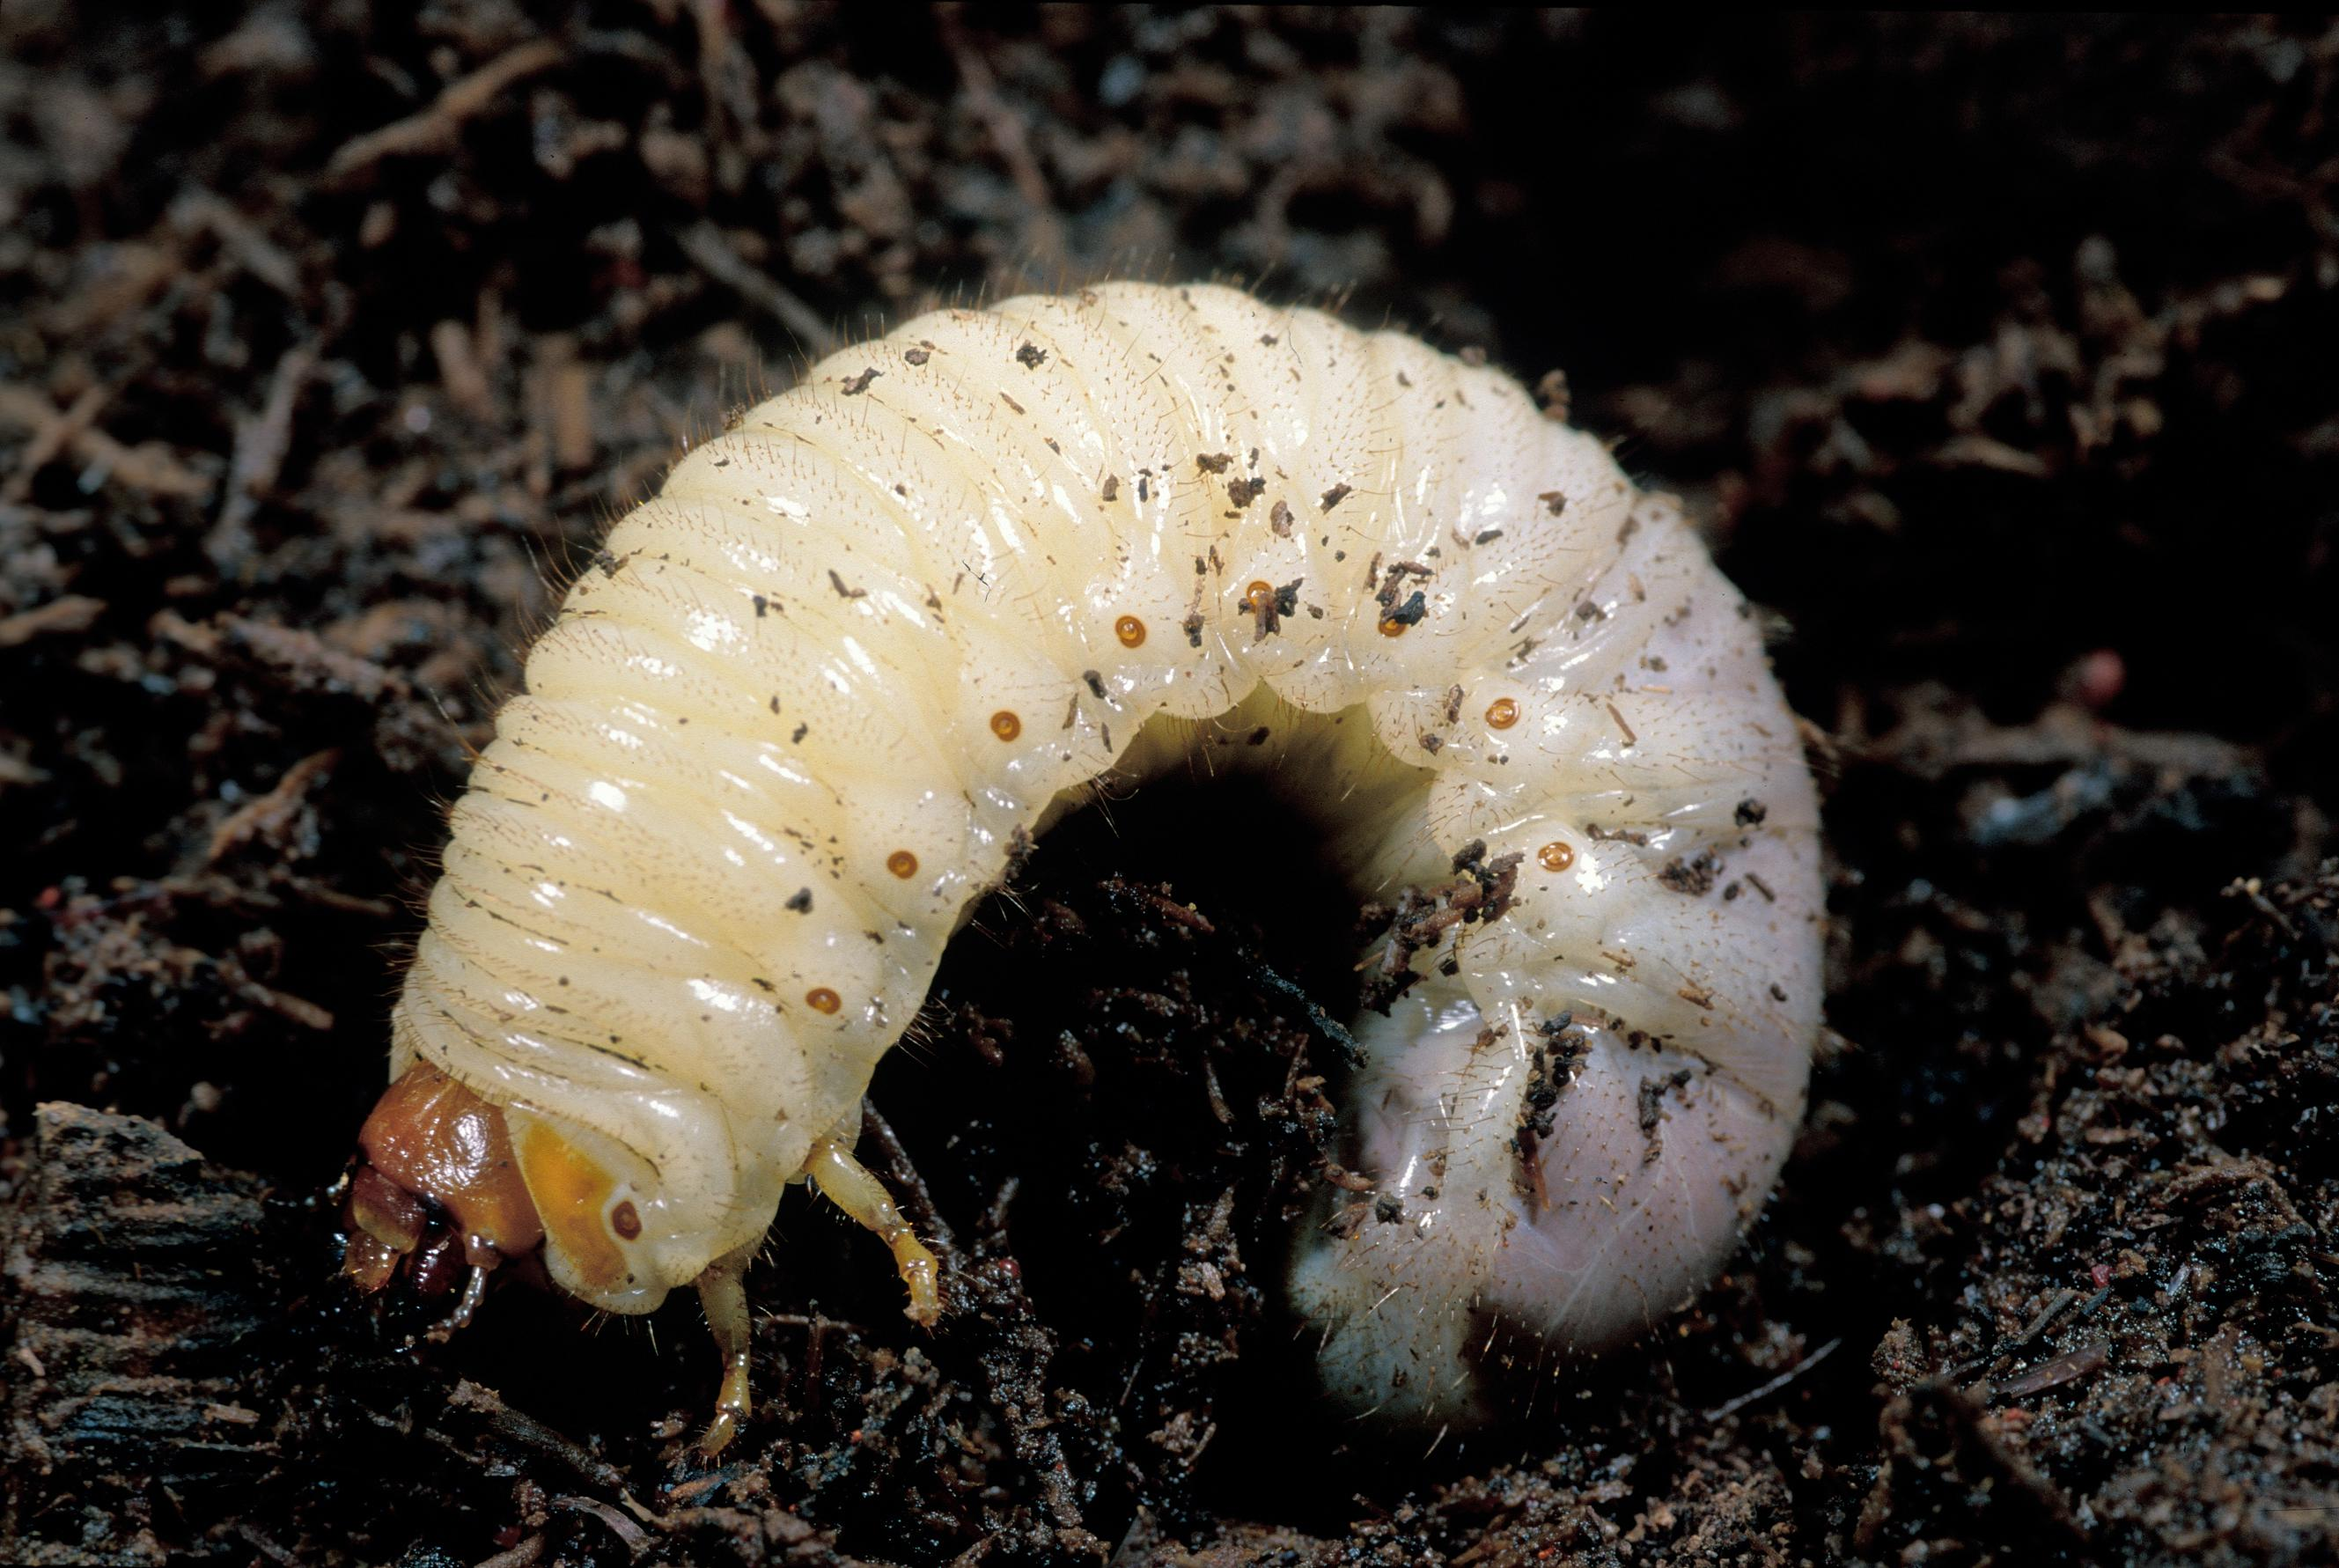grub: (261, 236, 1842, 1419)
